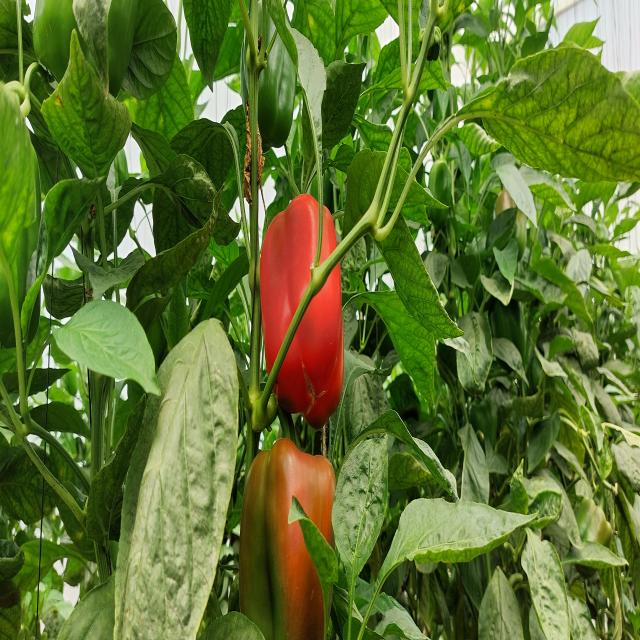BrownishRed--Can-be-Harvested: (238, 431, 334, 640)
Red-Ready-to-Harvest: (256, 197, 356, 420)
